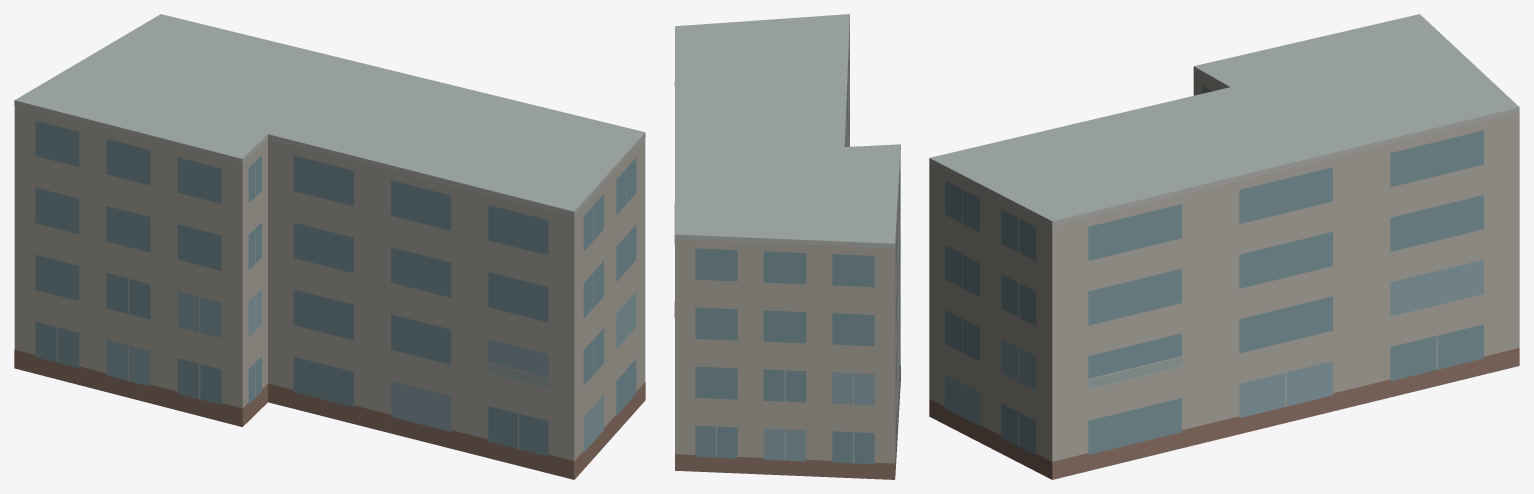
Rendered from survey-upis-32501168.glb.
The picture shows the model from 3 angles, left to right: view 1: azimuth 30°, elevation 25°; view 2: azimuth 150°, elevation 25°; view 3: azimuth 270°, elevation 25°; orthographic projection. The views are drawn at different scales.
Parts seen in each view (by area): view 1: survey-upis-32501168.tmp; view 2: survey-upis-32501168.tmp; view 3: survey-upis-32501168.tmp.
Part boxes in pixels (x1=…): survey-upis-32501168.tmp: x1=14, y1=14, x2=645, y2=479; survey-upis-32501168.tmp: x1=674, y1=14, x2=900, y2=479; survey-upis-32501168.tmp: x1=929, y1=14, x2=1519, y2=479.
Size of the model in its own units: 21.12 by 12.28 by 25.42.
